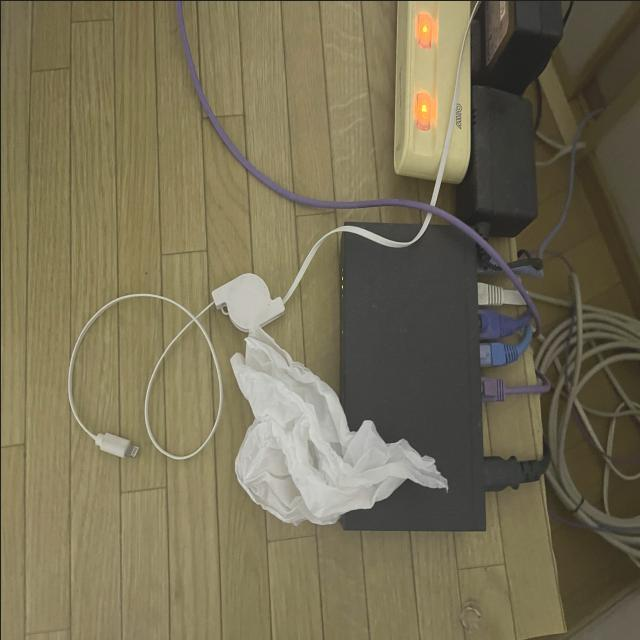Paper: (218, 321, 454, 525)
